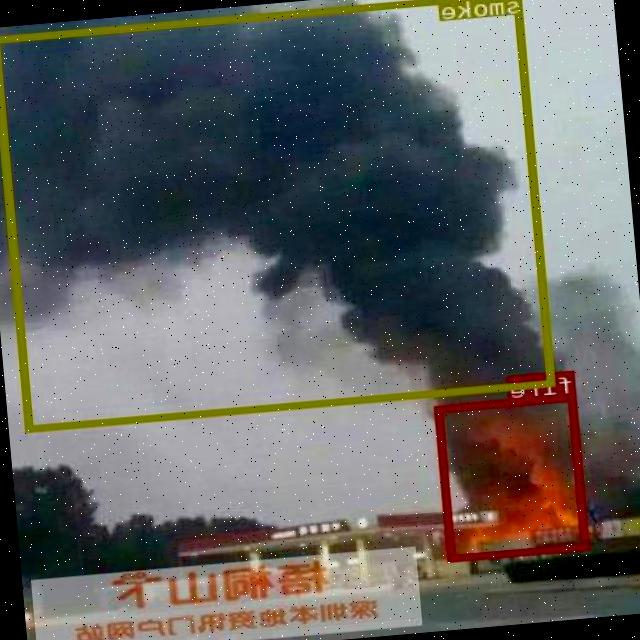fire: (437, 392, 590, 560)
smoke: (0, 0, 556, 430)
